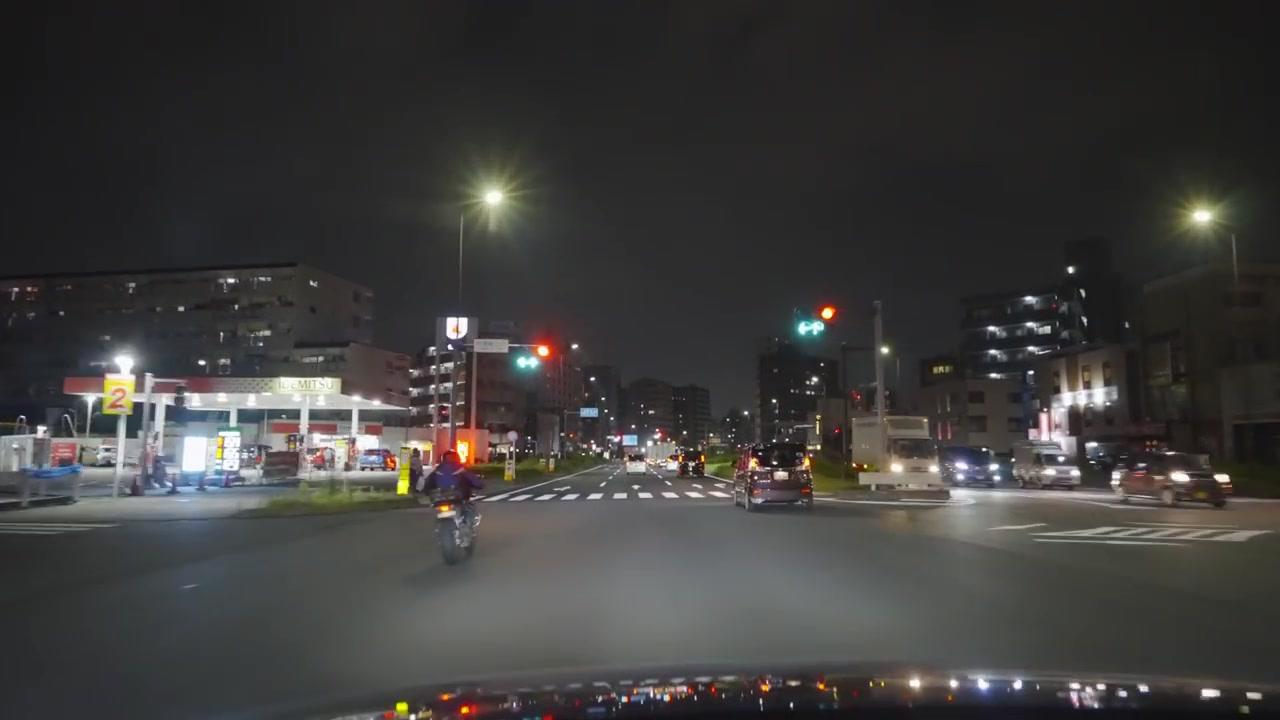car: (851, 414, 949, 500), (1116, 451, 1233, 507), (733, 445, 815, 511), (1013, 441, 1082, 489), (939, 445, 995, 487), (985, 453, 1016, 486), (200, 465, 242, 489), (674, 451, 704, 476), (359, 449, 393, 470), (309, 448, 336, 469), (94, 448, 117, 466)
motorcycle: (430, 489, 483, 565)
person: (421, 448, 484, 528)
traffic light: (793, 311, 825, 339), (512, 348, 538, 374), (533, 340, 553, 364), (818, 304, 838, 327), (830, 422, 844, 448), (435, 404, 450, 425), (851, 388, 863, 412), (174, 387, 187, 407)
truck: (850, 413, 950, 500), (1012, 441, 1082, 490)
